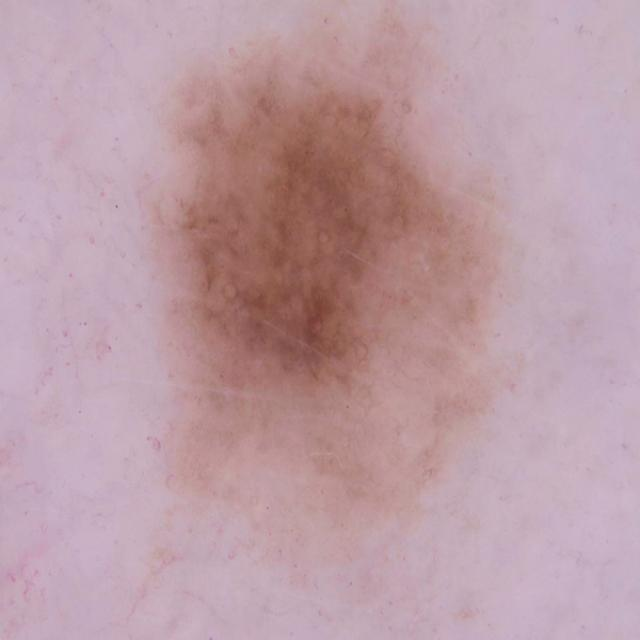Skin-Cancer Pigmented benign keratosis: (87, 4, 640, 585)
